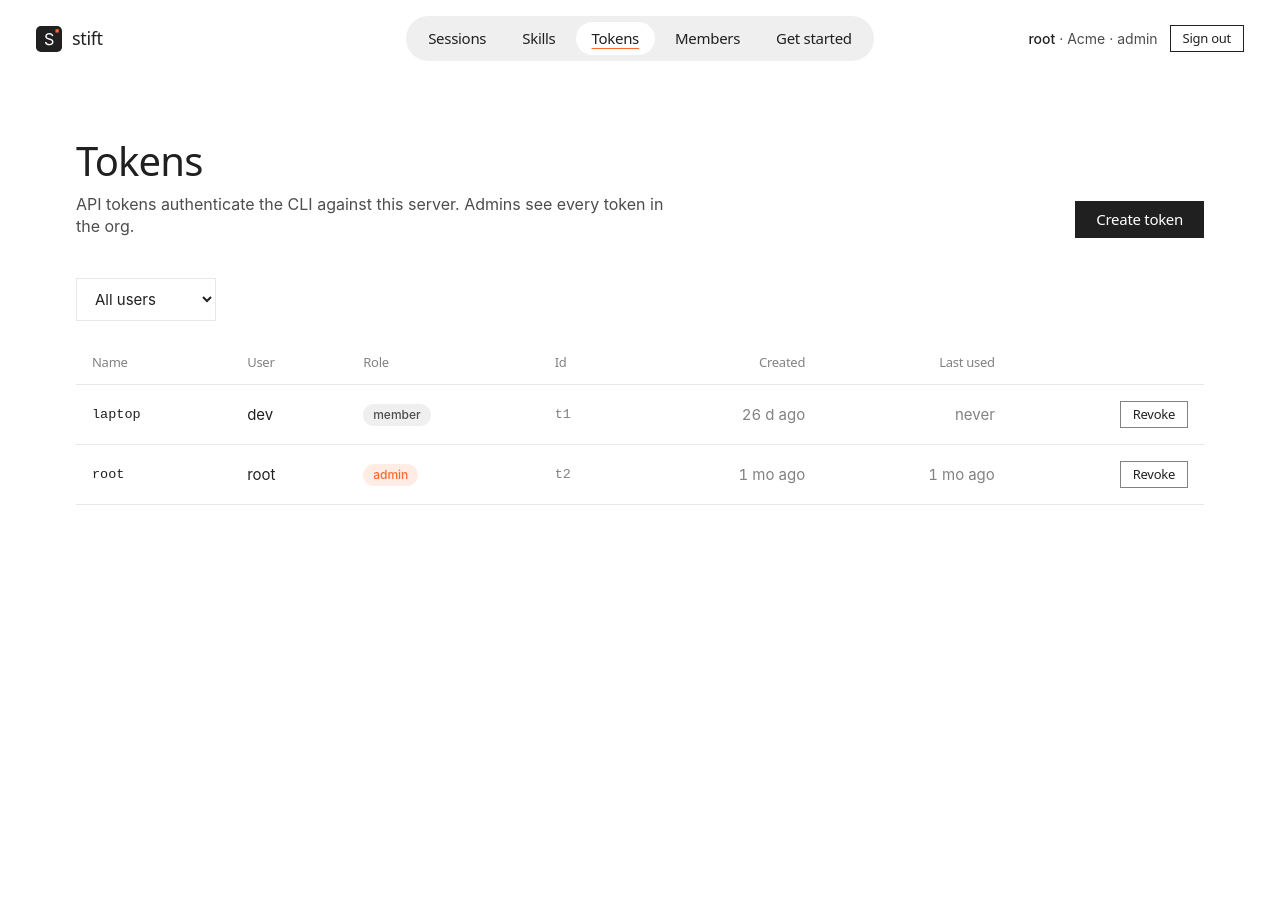
Scenario: create shows the secret once and refreshes the list
expect the text "laptop" is shown: met, box [76,385,231,445]
Step 1. Click the button "Create token" → (1140, 219), box [1075,201,1204,238]
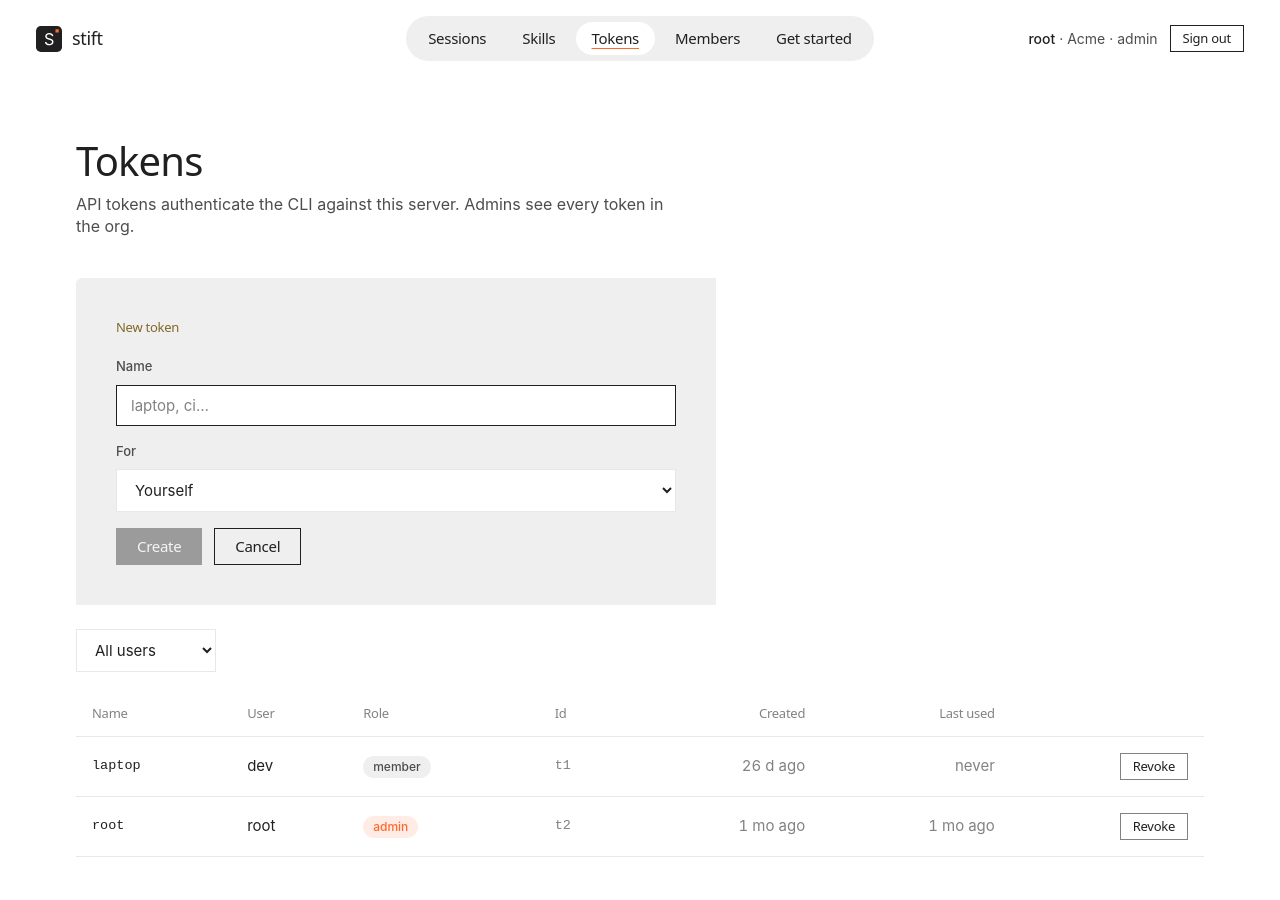
Step 2. Type "ci" into the field labelled "Name" → (396, 405), box [116,385,676,426]
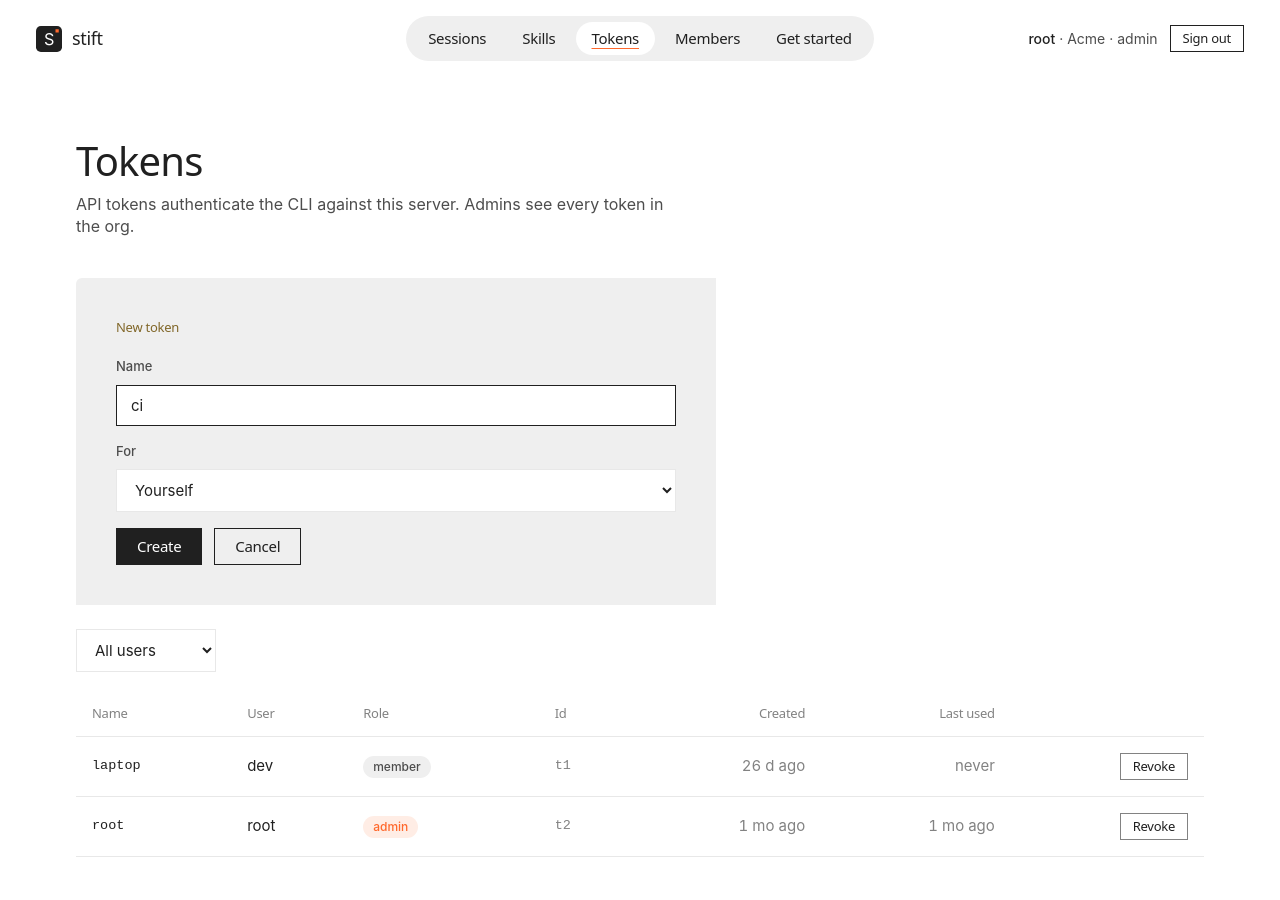
Step 3. Click the button "Create" → (159, 547), box [116,528,202,565]
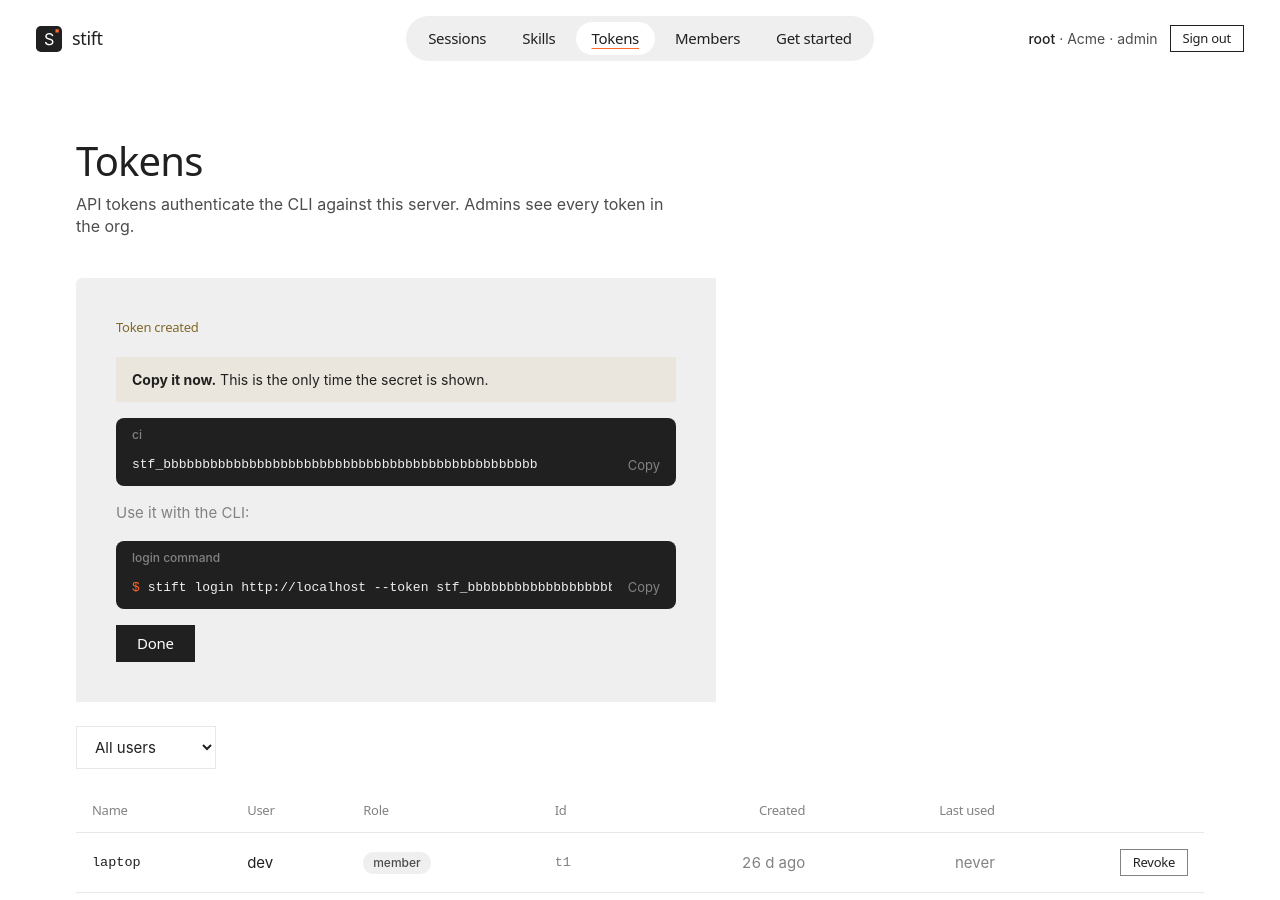
Step 4. Click the button "Done" → (155, 644), box [116,625,195,662]
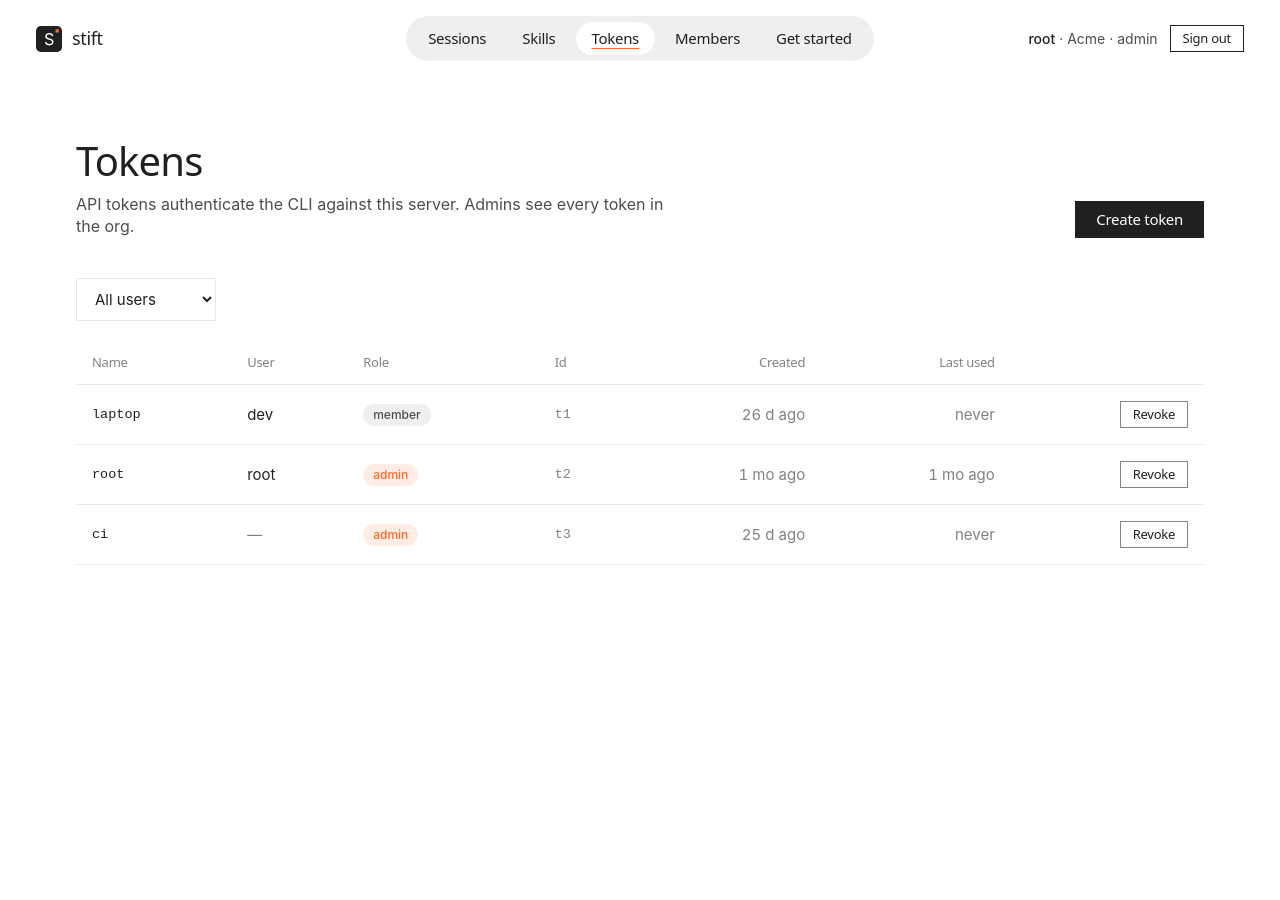
expect the button "Create token" is shown: met, box [1075,201,1204,238]
